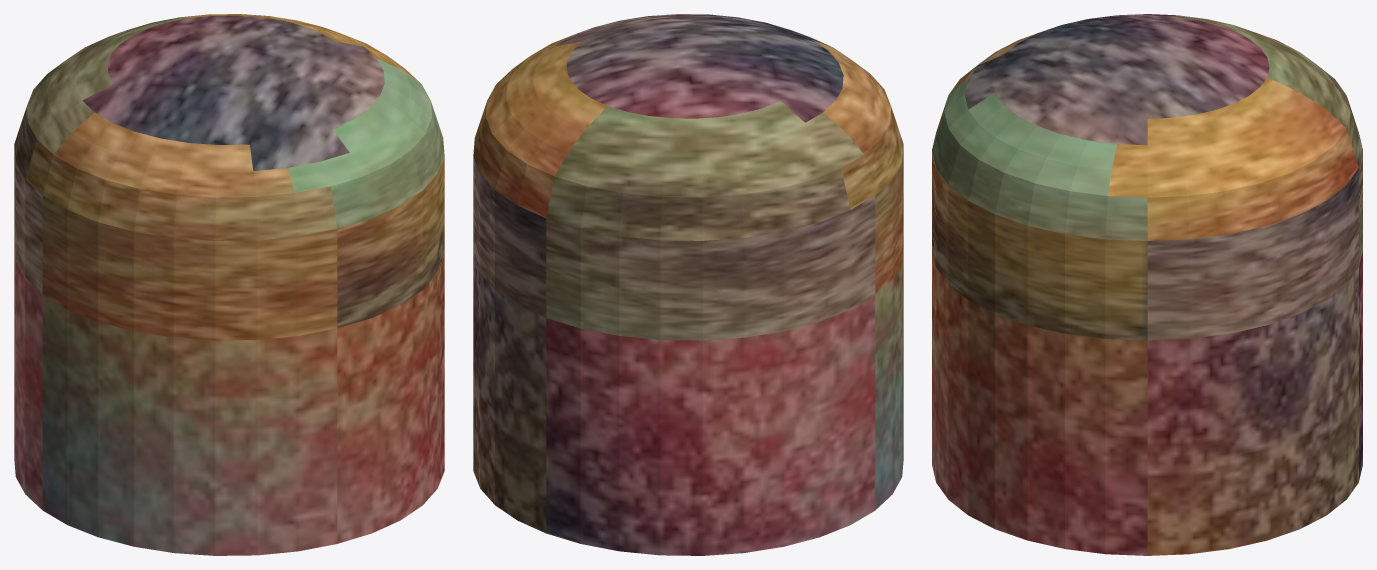
The model's file is bumper.obj.
3 views of the same model, side by side, from view 1: azimuth 30°, elevation 25°; view 2: azimuth 150°, elevation 25°; view 3: azimuth 270°, elevation 25° (orthographic).
Parts seen in each view (by area): view 1: Bumper_Sphere.001; view 2: Bumper_Sphere.001; view 3: Bumper_Sphere.001.
Part boxes in pixels (x1,y1,x2,y2): Bumper_Sphere.001: (14, 14, 444, 555); Bumper_Sphere.001: (473, 14, 903, 555); Bumper_Sphere.001: (932, 14, 1362, 555).
Bounding box in the file's own units: 0.3923 × 0.4163 × 0.3923.
